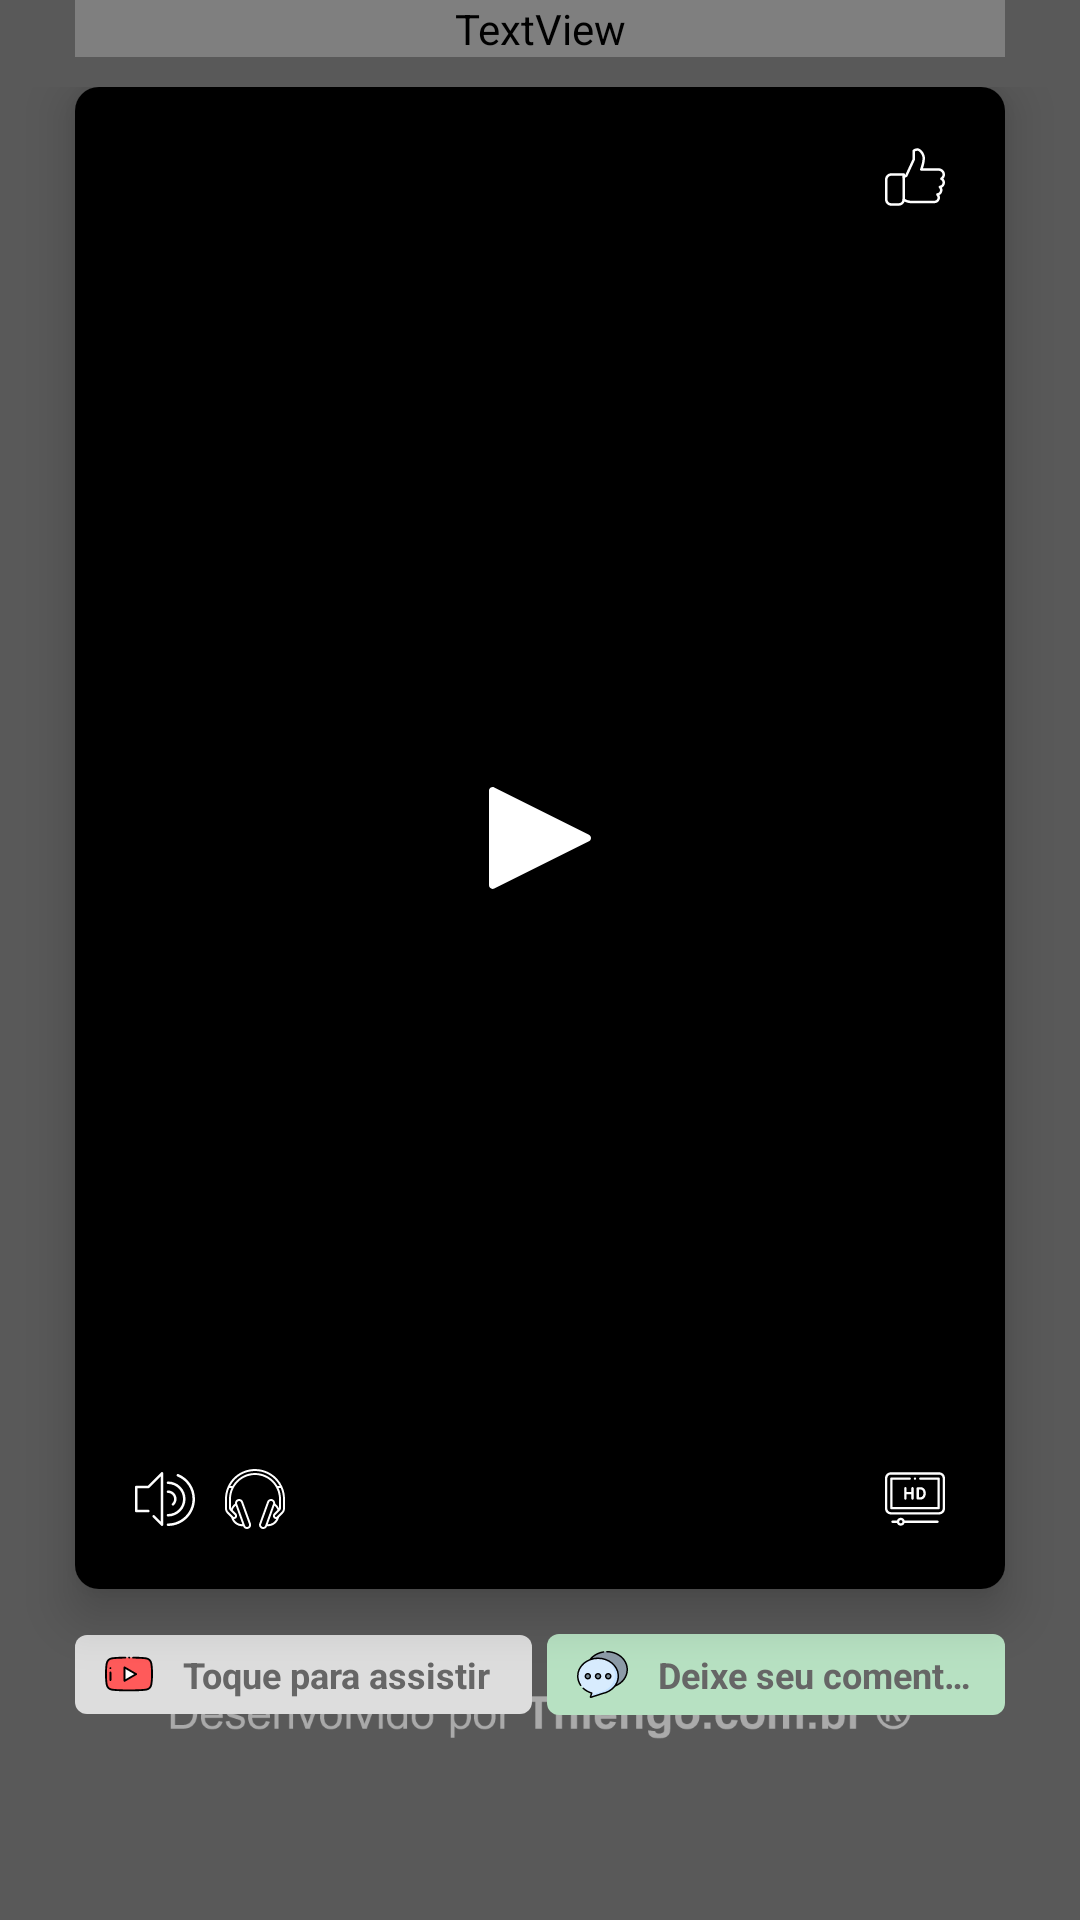

Where icons sit on this 1080×1920 app screen, as (x1, y1, x2, y2):
Ícone de controle de resolução (HD): (885, 1472, 945, 1526)
Ícone de controle volume: (135, 1472, 195, 1526)
Ícone de fones de ouvido: (225, 1469, 285, 1529)
Ícone de like, gostei do conteúdo: (885, 148, 945, 206)
Ícone de play do vídeo: (489, 787, 591, 889)
